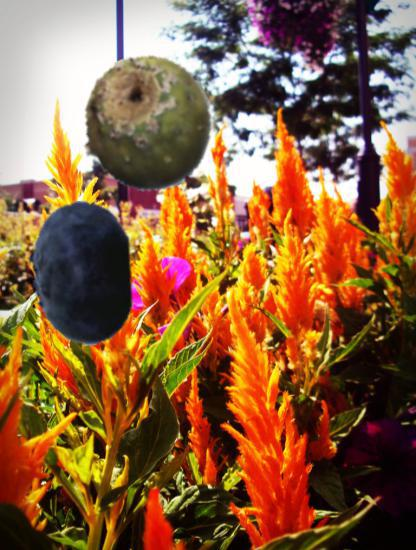Blueberry: (8, 201, 153, 346)
Cactus: (75, 56, 214, 195)
